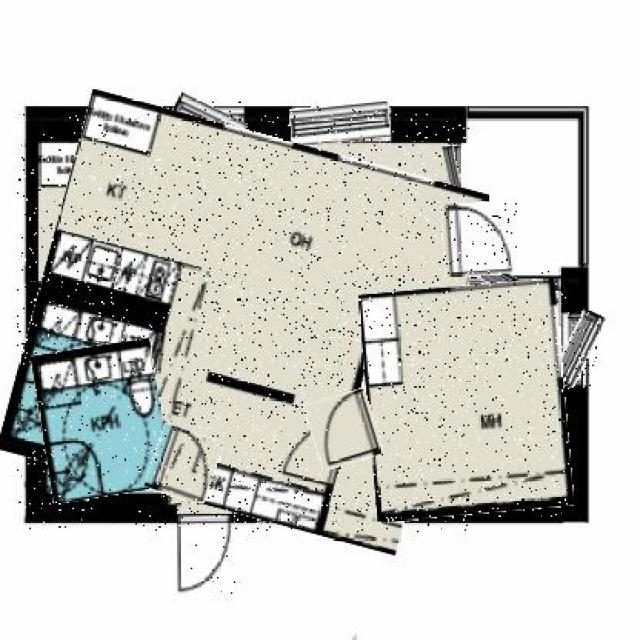door: (441, 201, 517, 277), (308, 392, 380, 466), (151, 426, 218, 502), (177, 514, 235, 597)
window: (17, 114, 469, 532), (364, 283, 570, 517), (37, 342, 166, 500), (291, 103, 391, 143), (462, 265, 560, 303), (169, 100, 246, 148), (558, 310, 598, 388), (444, 146, 462, 205)
